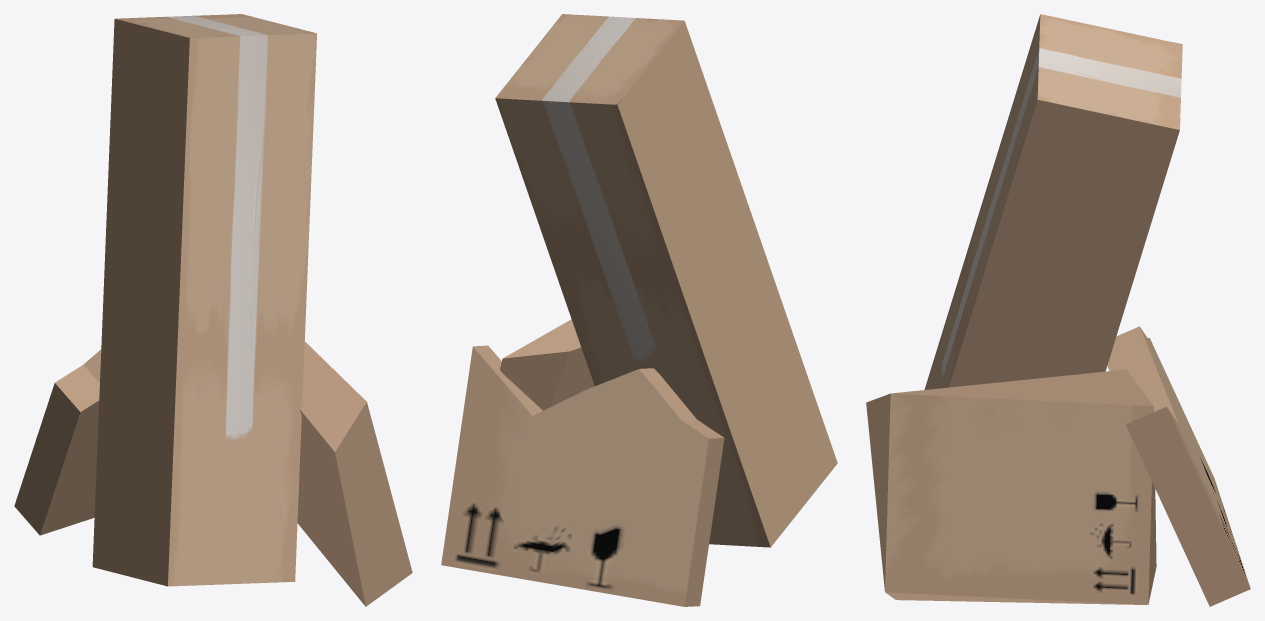
The model's file is Pilon de cajas(va en la mano).fbx.
The picture shows the model from 3 angles, left to right: view 1: azimuth 30°, elevation 25°; view 2: azimuth 150°, elevation 25°; view 3: azimuth 270°, elevation 25°; orthographic projection.
Parts seen in each view (by area): view 1: Box.011; view 2: Box.011; view 3: Box.011.
Boxes of the visible parts, <box> form: Box.011: <box>14,14,412,606</box>; Box.011: <box>441,14,837,606</box>; Box.011: <box>866,14,1250,606</box>.
Size of the model in its own units: 58.73 by 115 by 74.95.
